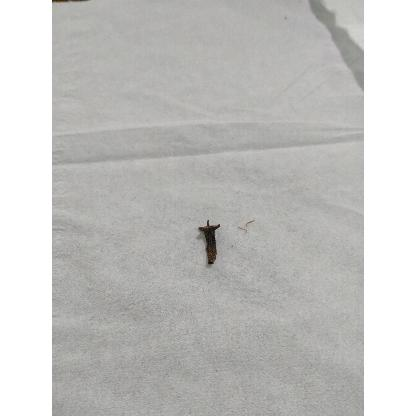buruk: (199, 219, 220, 266)
